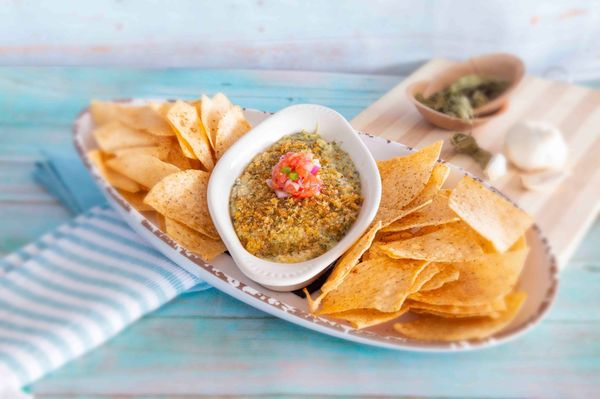sushi: (206, 103, 381, 292), (407, 52, 526, 132)
